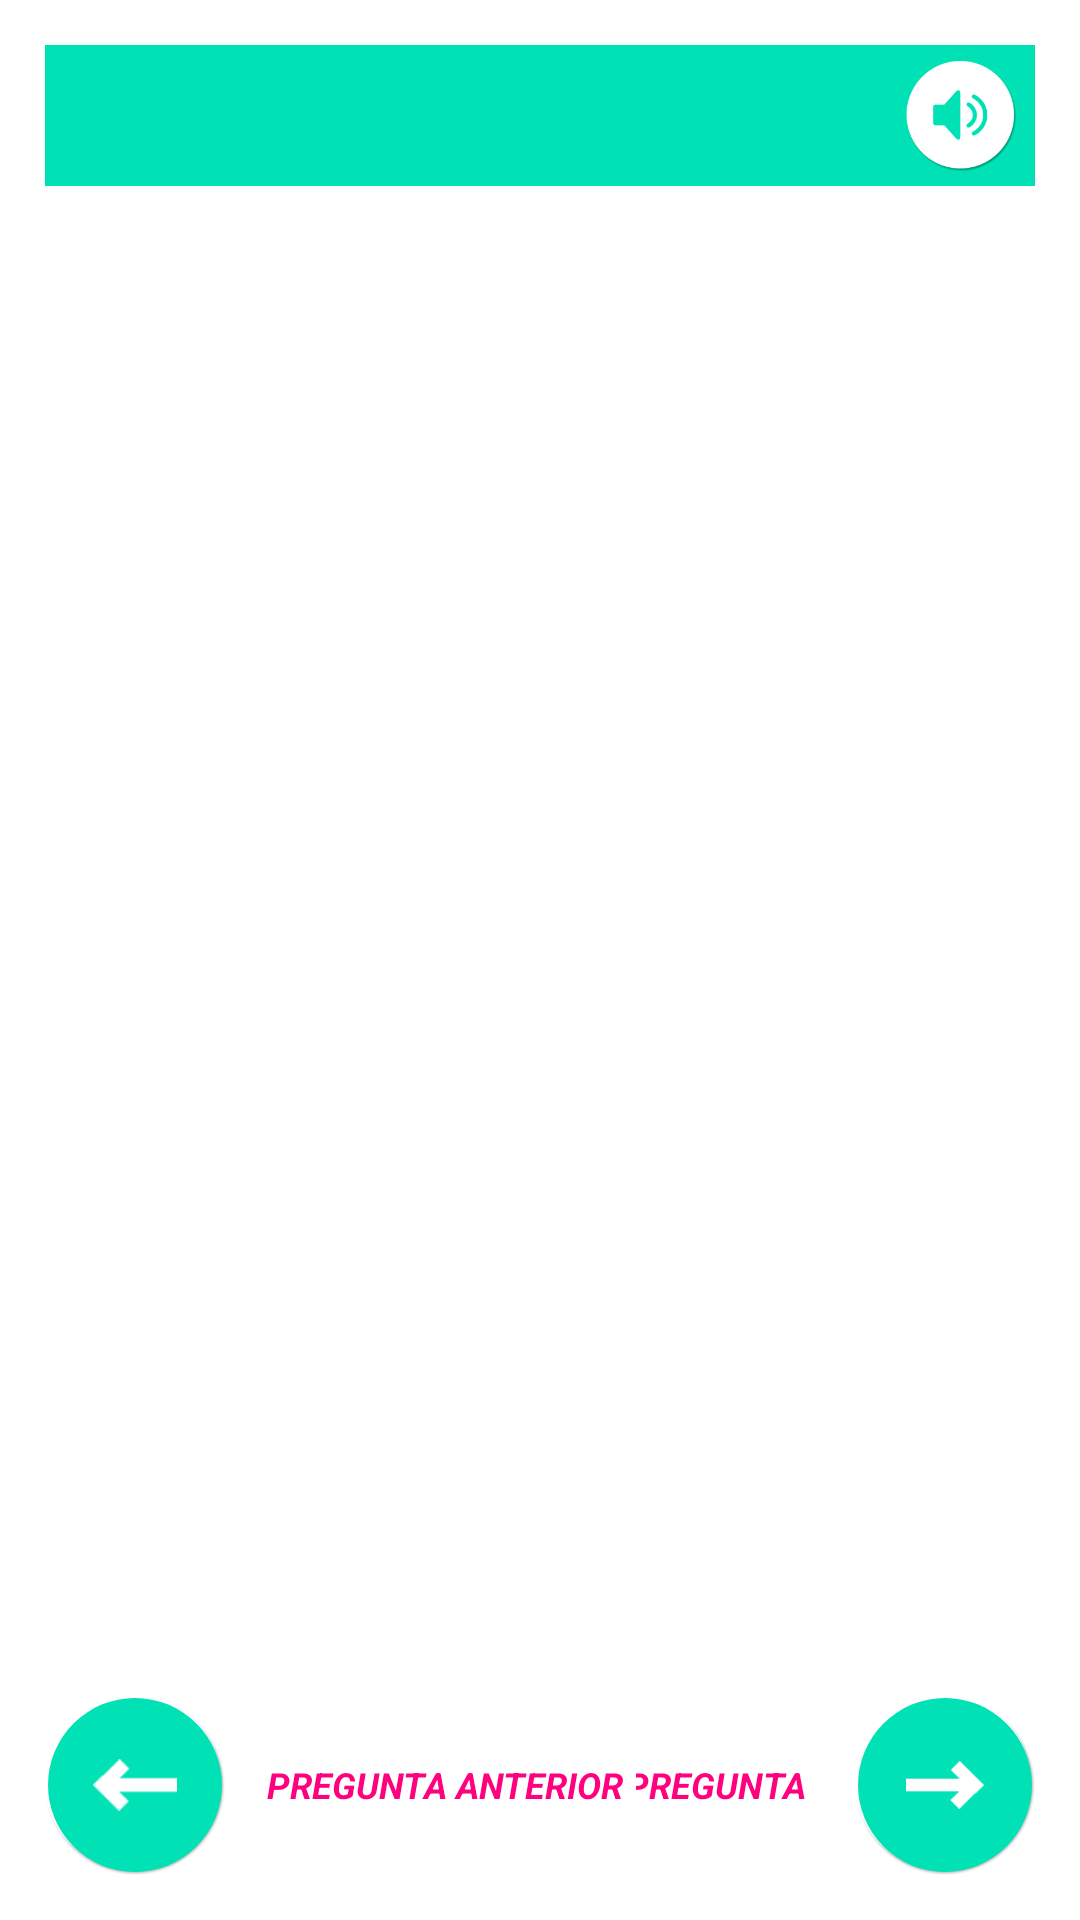

Point at icon controls on the screen. Image size 1080*1920, points as point (x, y).
back arrow: point (135, 1785)
next arrow: point (945, 1785)
speaker rounded: point (960, 115)
